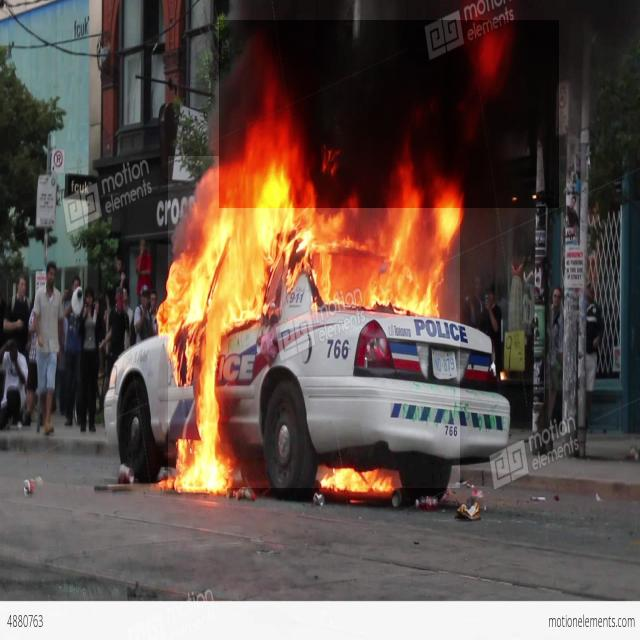Fire: (168, 156, 460, 488)
Smoke: (219, 20, 559, 208)
